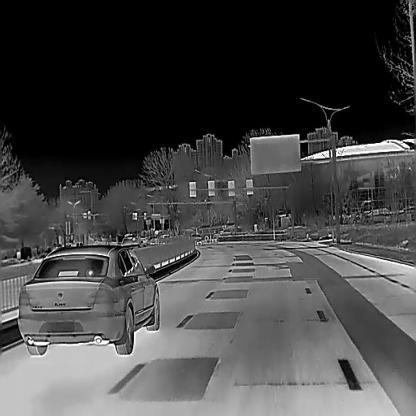car: (15, 244, 161, 354), (189, 233, 202, 246)
